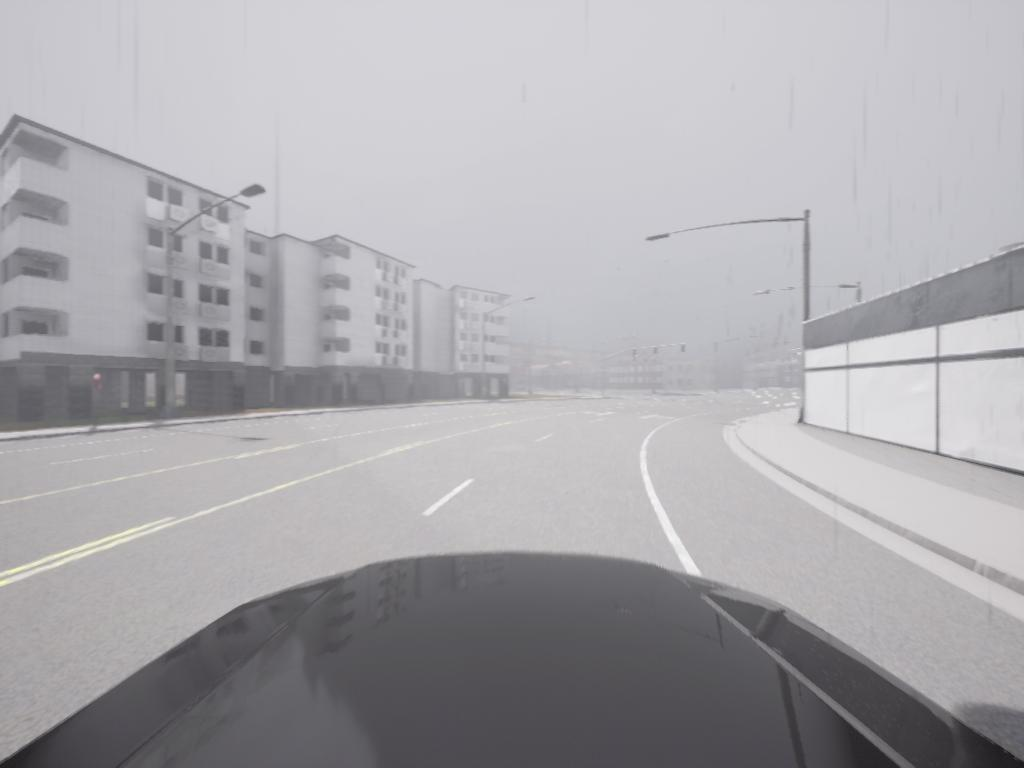traffic_light: (653, 347, 660, 357), (682, 344, 687, 355), (714, 343, 720, 352), (634, 349, 639, 359)
